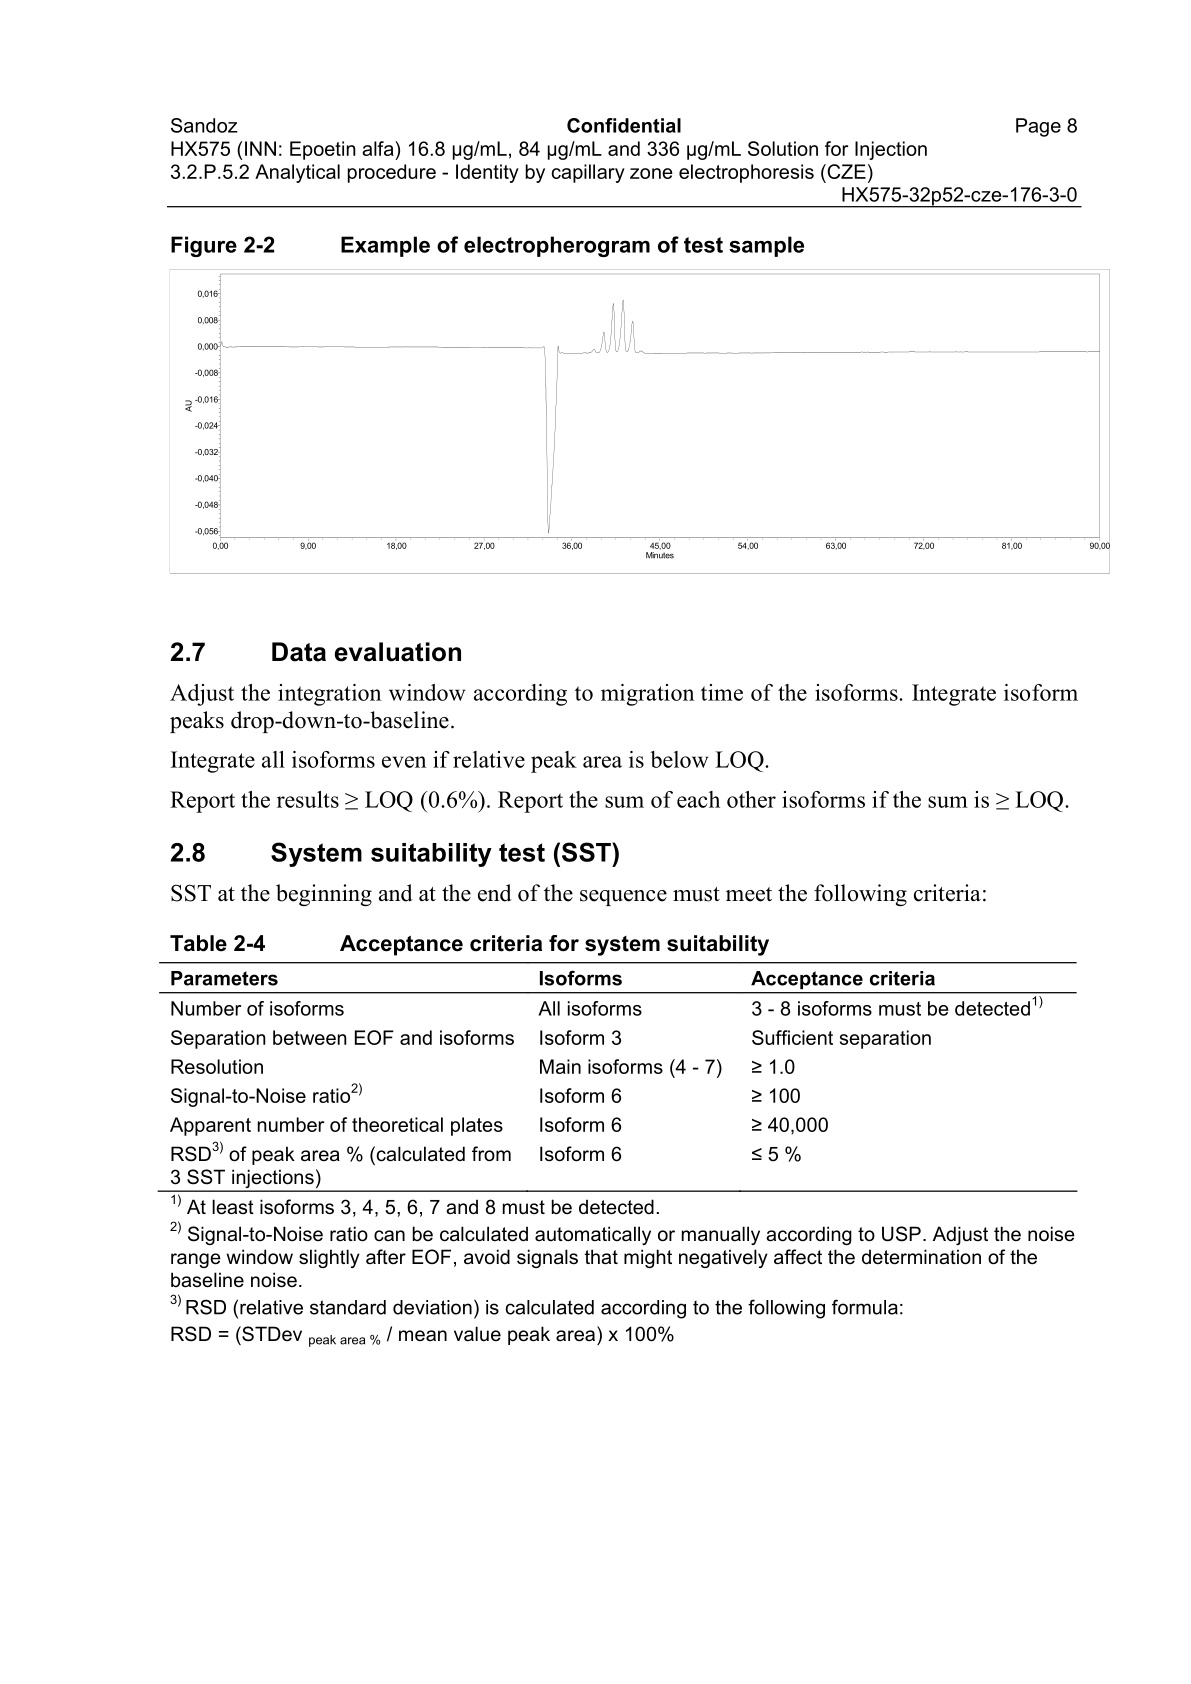partial_lined_merged_cells: (159, 962, 1078, 1192)
